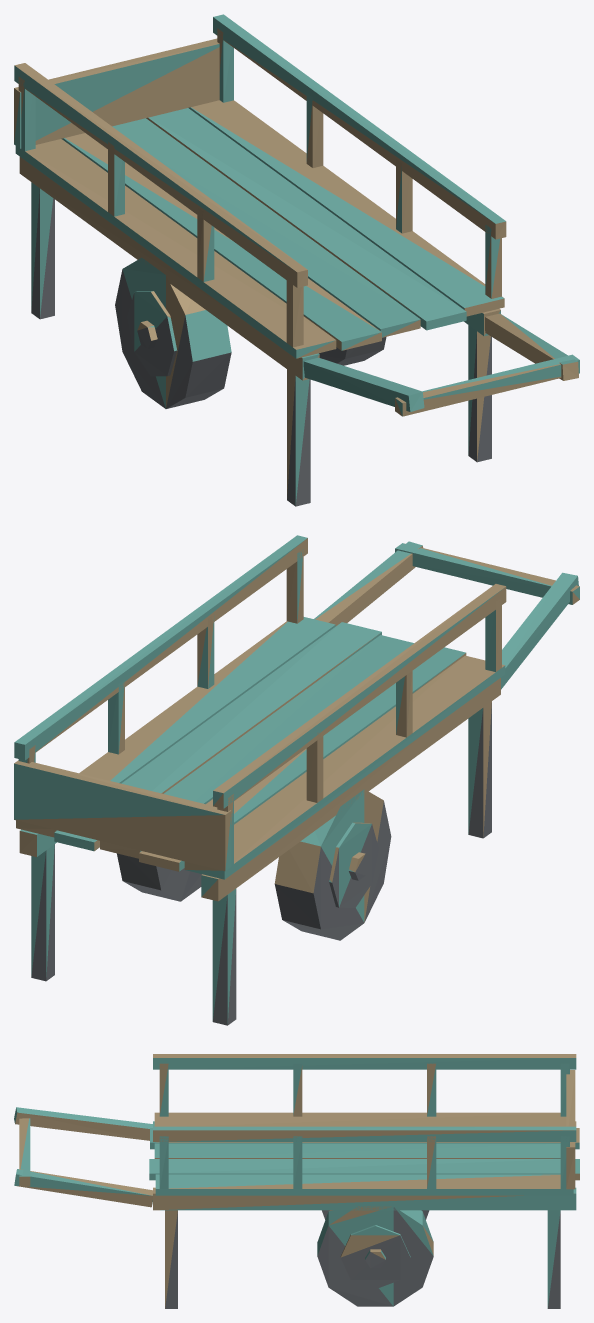
Rendered from push-truck-00.glb.
The picture shows the model from 3 angles, top to bottom: view 1: azimuth 30°, elevation 25°; view 2: azimuth 150°, elevation 25°; view 3: azimuth 270°, elevation 25°; orthographic projection. The views are drawn at different scales.
Parts seen in each view (by area): view 1: push_truck_00; view 2: push_truck_00; view 3: push_truck_00.
Boxes of the visible parts, bbox=[...] form: push_truck_00: bbox=[14, 14, 579, 506]; push_truck_00: bbox=[14, 535, 579, 1025]; push_truck_00: bbox=[14, 1054, 579, 1308].
Size of the model in its own units: 1.02 by 1.08 by 3.07.
